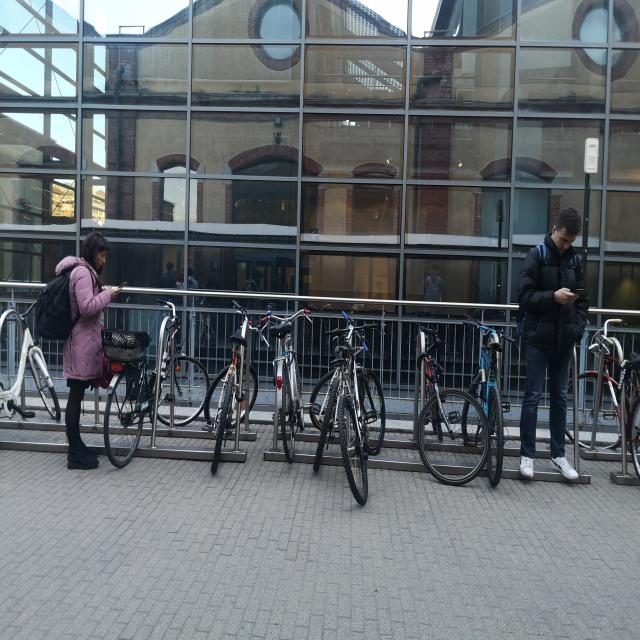Bicycle: (115, 290, 208, 496), (406, 289, 487, 515), (332, 311, 401, 511), (581, 305, 640, 492), (208, 274, 258, 486), (251, 288, 310, 465), (0, 276, 57, 457), (460, 288, 508, 486), (316, 304, 336, 476)
